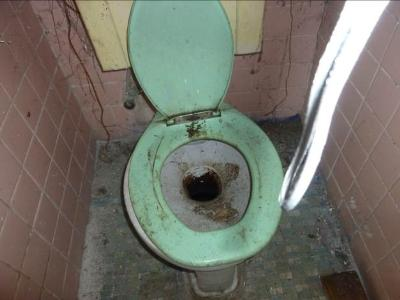toilet: (122, 1, 285, 298)
